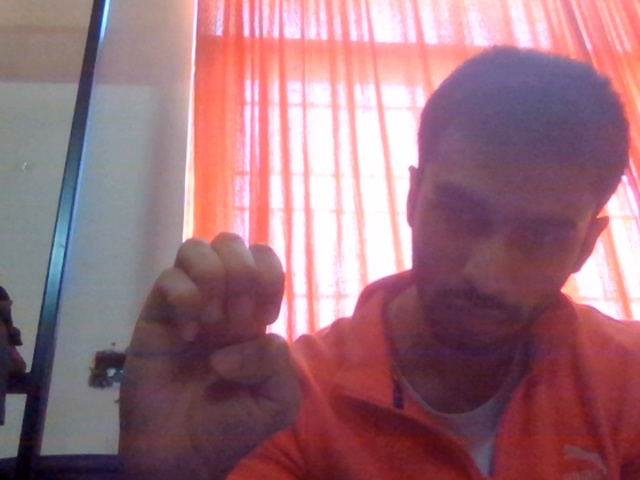E: (111, 196, 323, 480)
